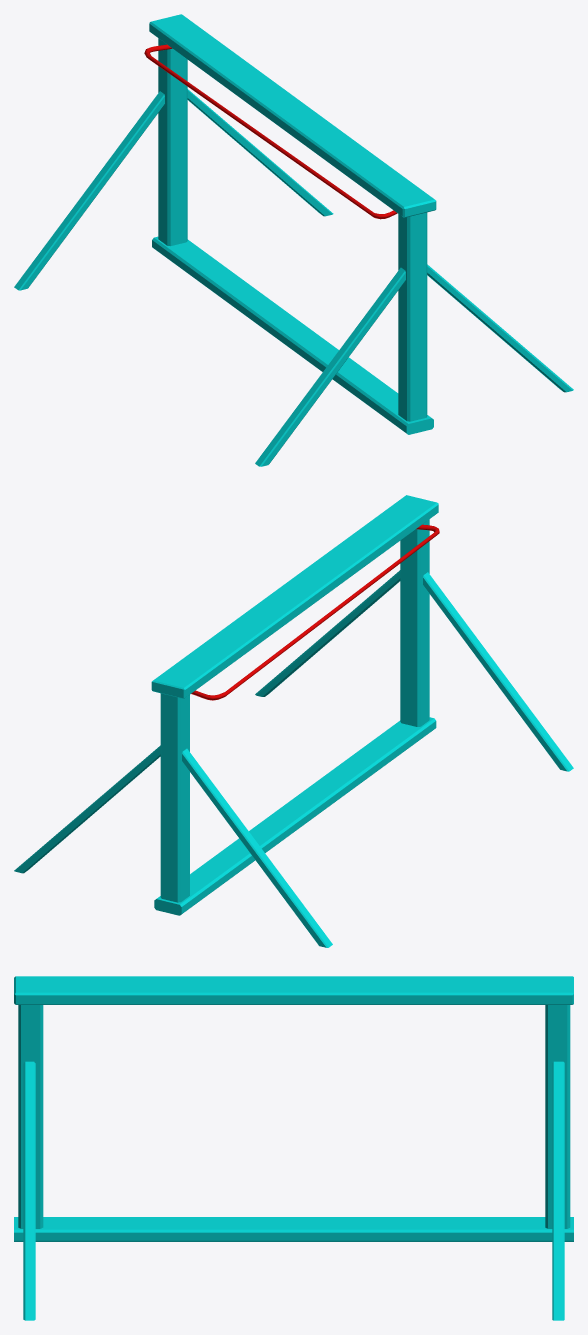
The model's file is SM_toolStand.fbx.
3 renders of one model, top to bottom at view 1: azimuth 30°, elevation 25°; view 2: azimuth 150°, elevation 25°; view 3: azimuth 270°, elevation 25°, orthographic. The views are drawn at different scales.
Parts seen in each view (by area): view 1: Cube.078; view 2: Cube.078; view 3: Cube.078.
Part boxes in pixels (x1,y1,x2,y2): Cube.078: (14,14,573,466); Cube.078: (14,495,573,947); Cube.078: (14,976,573,1320).
Size of the model in its own units: 130 by 90.21 by 182.
